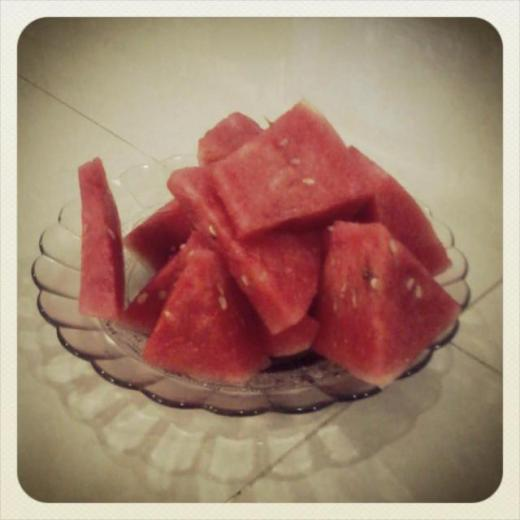Cherry: (78, 99, 461, 388)
